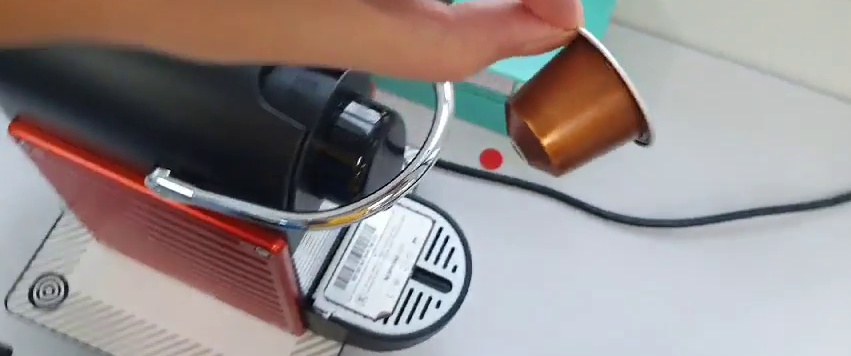capsule_3: (504, 23, 658, 178)
